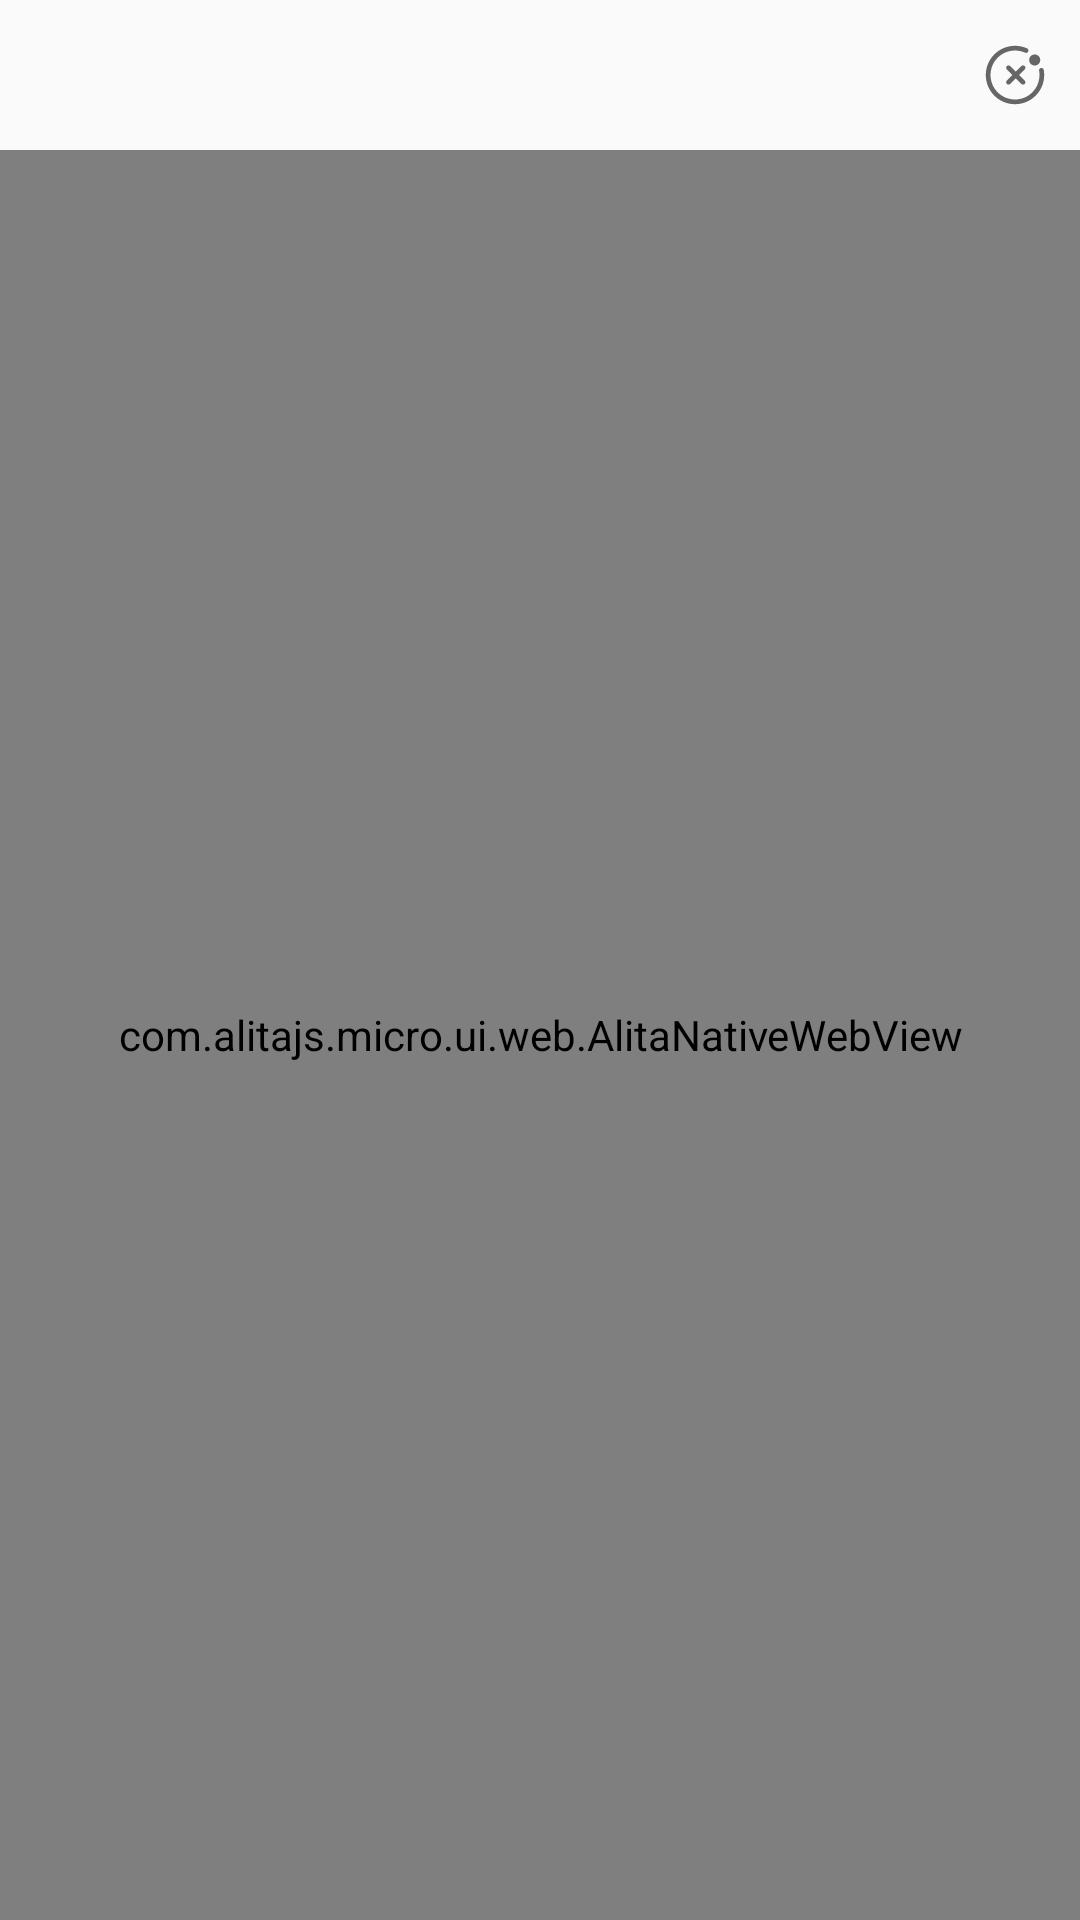

Point at icon controls on the screen. Image size 1080px x 1920px, points as (x=x, y=y).
close: (x=1015, y=75)
